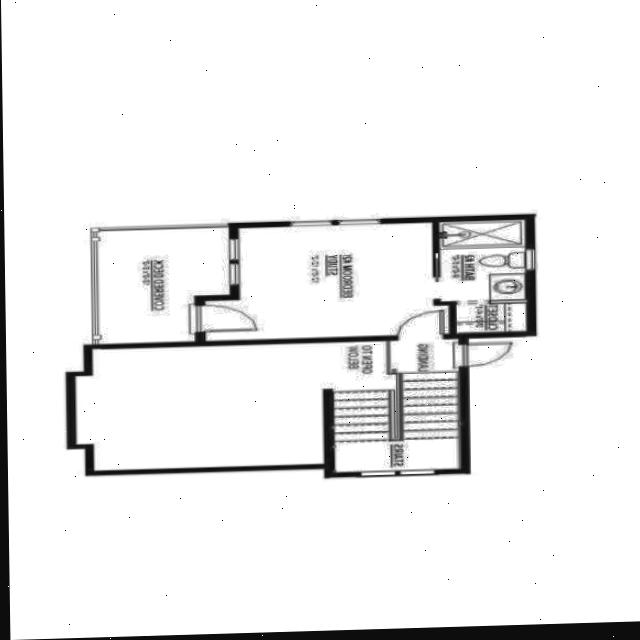room: (73, 339, 460, 479), (202, 223, 449, 341), (96, 228, 230, 345), (438, 221, 526, 334)
